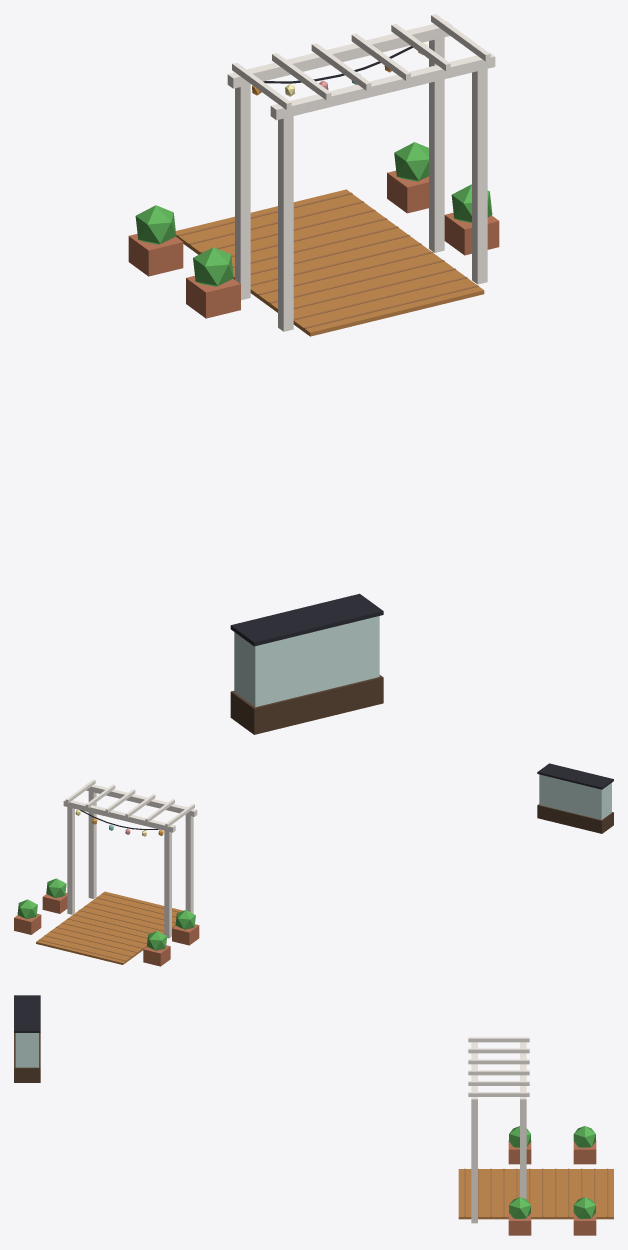
File: CatCafe_Plot_Tier4.fbx
3 renders of one model, top to bottom at view 1: azimuth 30°, elevation 25°; view 2: azimuth 150°, elevation 25°; view 3: azimuth 270°, elevation 25°, orthographic. The views are drawn at different scales.
Visible parts, largest first — view 1: CatCafe_Plot_Tier4, CatCafe_Plot_Tier4_Glass; view 2: CatCafe_Plot_Tier4, CatCafe_Plot_Tier4_Glass; view 3: CatCafe_Plot_Tier4, CatCafe_Plot_Tier4_Glass.
Boxes of the visible parts, <box> form: CatCafe_Plot_Tier4: <box>128,14,499,734</box>; CatCafe_Plot_Tier4_Glass: <box>234,616,379,707</box>; CatCafe_Plot_Tier4: <box>14,763,613,966</box>; CatCafe_Plot_Tier4_Glass: <box>539,774,611,819</box>; CatCafe_Plot_Tier4: <box>14,995,613,1235</box>; CatCafe_Plot_Tier4_Glass: <box>15,1033,38,1067</box>.
Size of the model in its own units: 27.52 by 8.85 by 37.05.
1 material, 1 textured.
